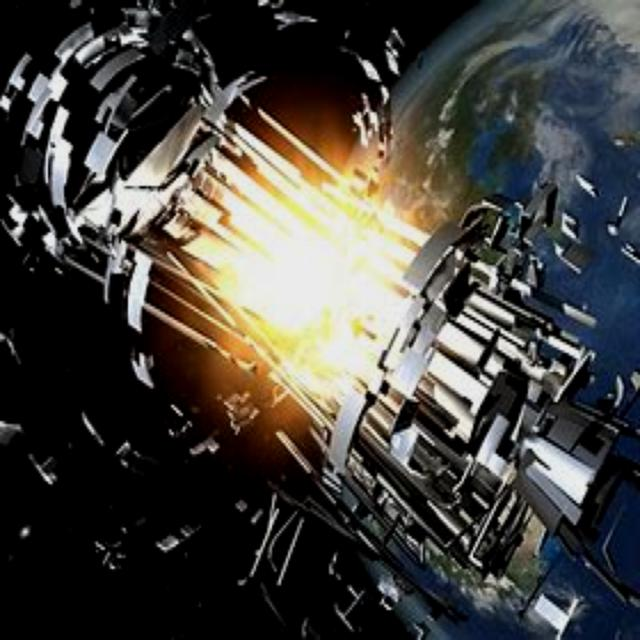large_debris: (1, 9, 635, 616)
